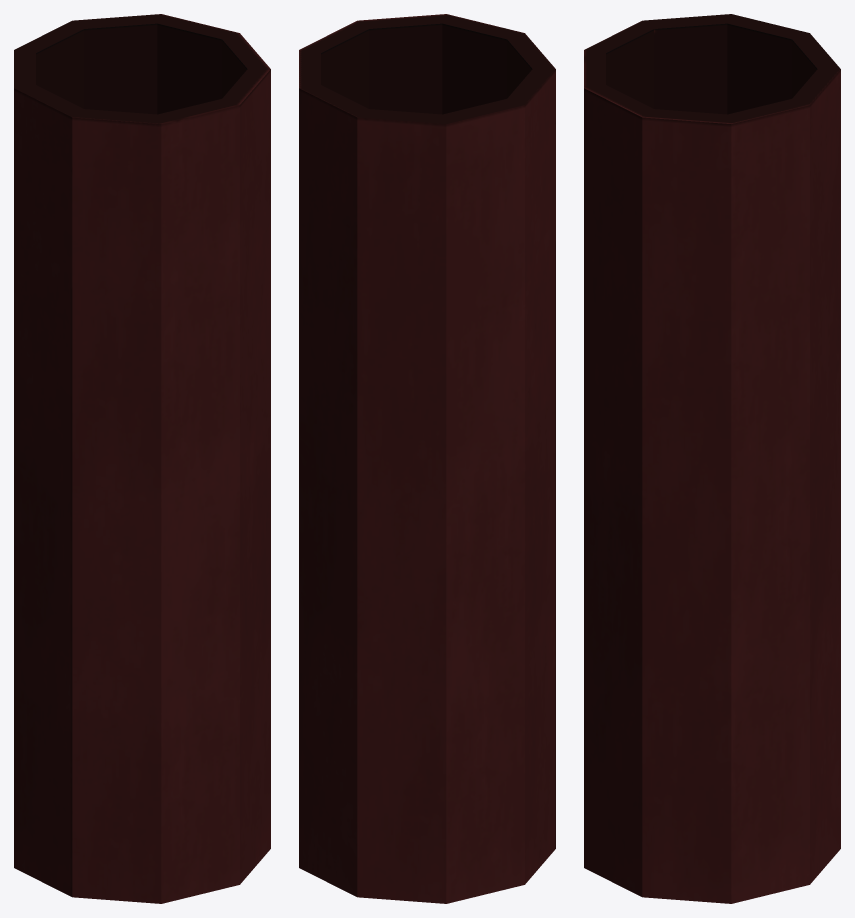
The model's file is Vase_v05_03.fbx.
3 renders of one model, left to right at view 1: azimuth 30°, elevation 25°; view 2: azimuth 150°, elevation 25°; view 3: azimuth 270°, elevation 25°, orthographic.
Visible parts, largest first — view 1: Vase_v02; view 2: Vase_v02; view 3: Vase_v02.
Part boxes in pixels (x1=…): Vase_v02: x1=14, y1=14, x2=270, y2=903; Vase_v02: x1=299, y1=14, x2=555, y2=903; Vase_v02: x1=584, y1=14, x2=840, y2=903.
Bounding box in the file's own units: 5.91 × 19.52 × 5.82.
